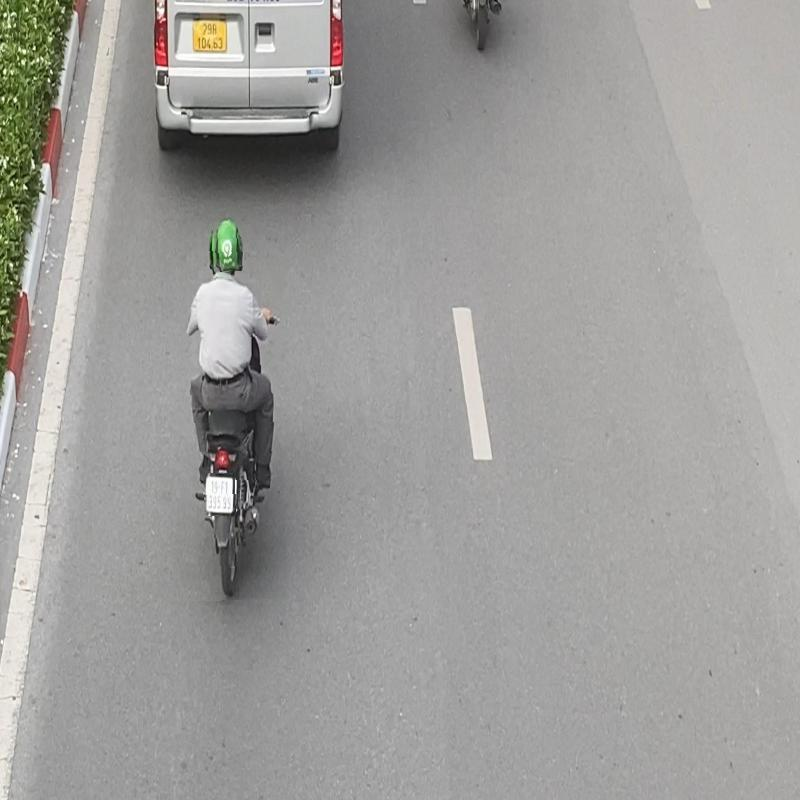helmet: (214, 217, 244, 272)
licenseplate: (204, 473, 236, 516)
motorcyclist: (181, 216, 284, 601)
